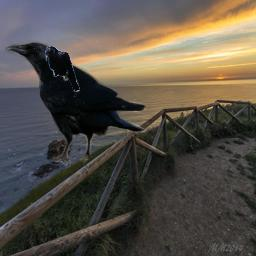Crow: (5, 40, 146, 168), (45, 46, 80, 93)
